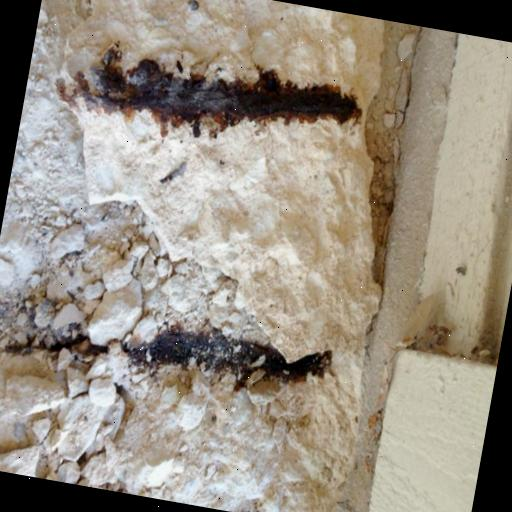spalling: (22, 5, 398, 178), (0, 276, 360, 432)
